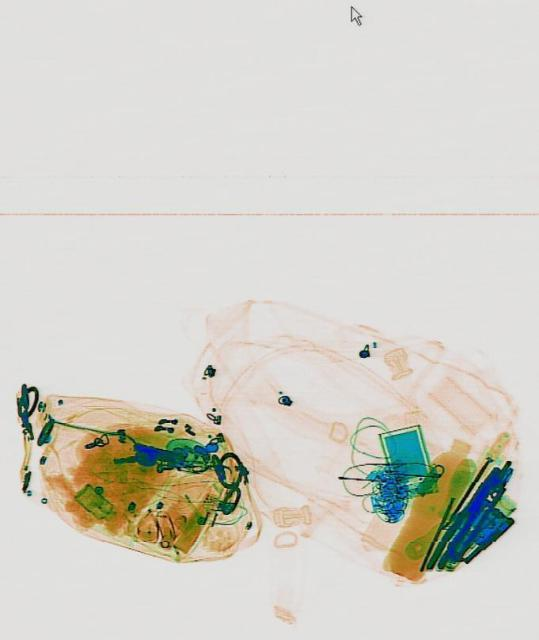Pliers: (421, 459, 502, 576)
